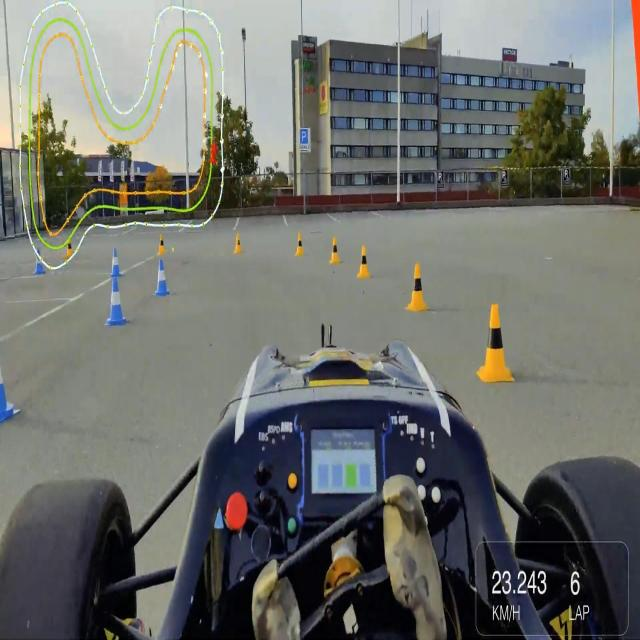blue_cone: (0, 354, 18, 430), (104, 276, 128, 328), (155, 256, 170, 298), (109, 245, 122, 277), (34, 243, 46, 277)
yellow_cone: (471, 299, 518, 390), (404, 262, 432, 315), (356, 243, 374, 284), (329, 236, 341, 268), (232, 230, 243, 256), (157, 230, 168, 255), (294, 231, 305, 256), (65, 240, 76, 261)
